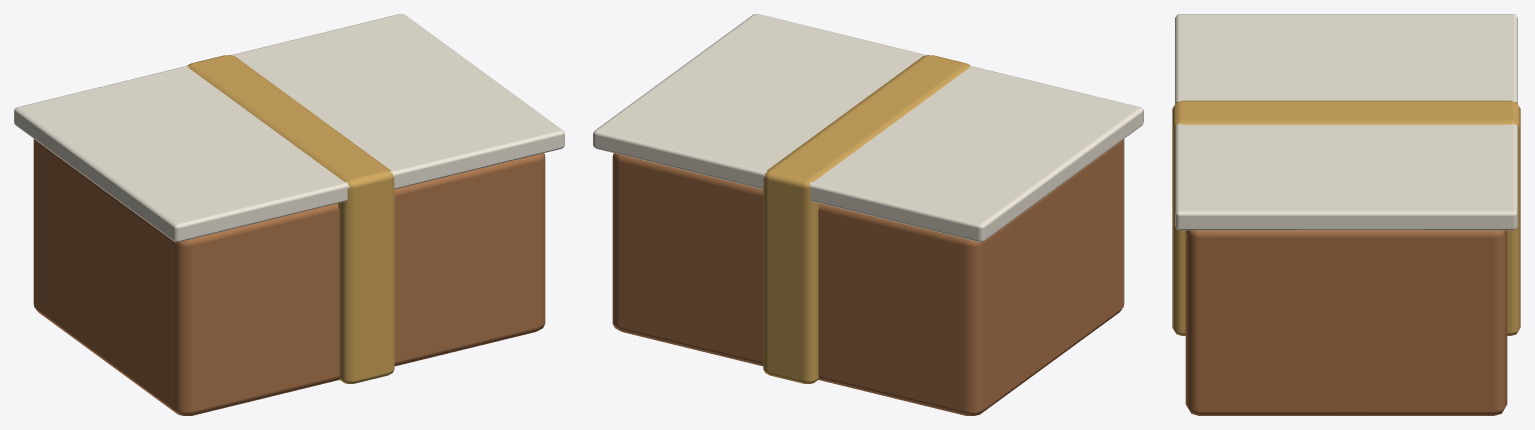
File: wp-coffret-d-expression.glb
3 renders of one model, left to right at view 1: azimuth 30°, elevation 25°; view 2: azimuth 150°, elevation 25°; view 3: azimuth 270°, elevation 25°, orthographic. The views are drawn at different scales.
Parts seen in each view (by area): view 1: wp-coffret-d-expression; view 2: wp-coffret-d-expression; view 3: wp-coffret-d-expression.
Part boxes in pixels (bbox=[...]): wp-coffret-d-expression: bbox=[14, 14, 564, 415]; wp-coffret-d-expression: bbox=[593, 14, 1143, 415]; wp-coffret-d-expression: bbox=[1172, 14, 1520, 415].
Size of the model in its own units: 0.3 by 0.15 by 0.22.
